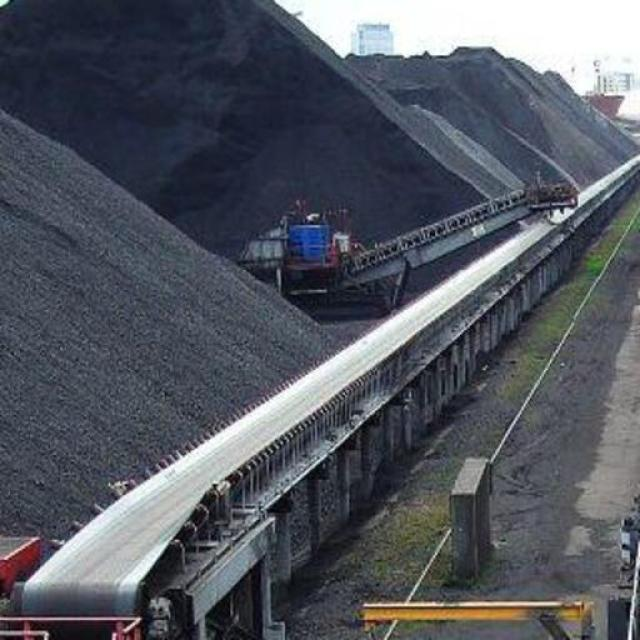conveyor: (19, 155, 640, 640)
